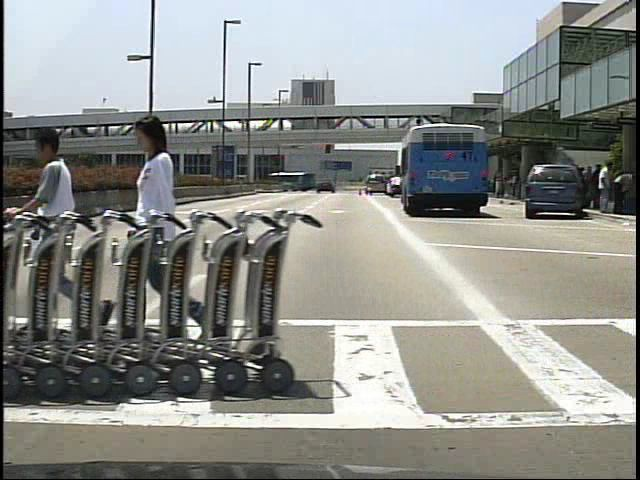person: (124, 110, 213, 351), (23, 121, 99, 340), (598, 160, 618, 215), (589, 164, 604, 214)
